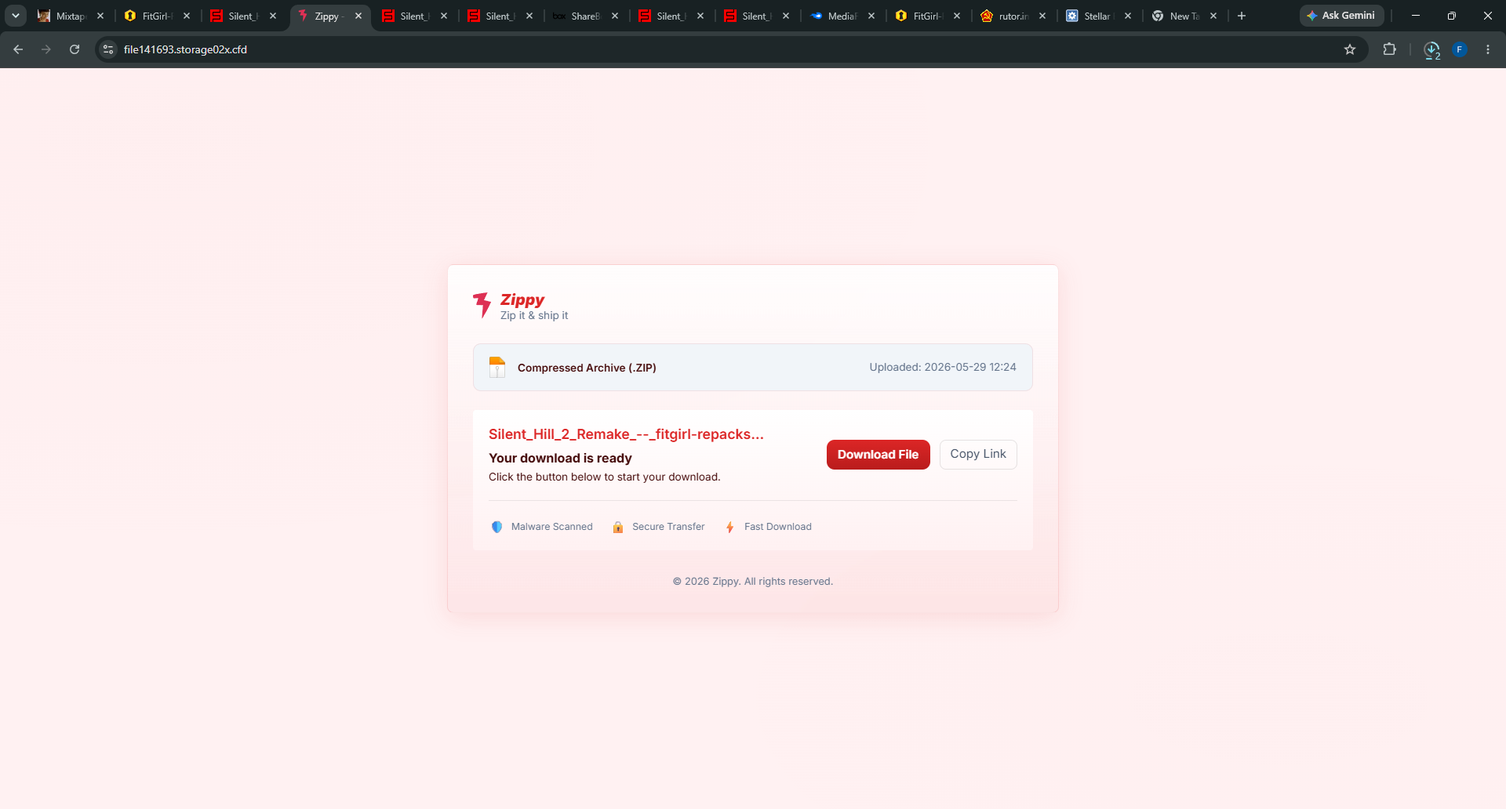fake_button: (816, 426, 938, 487)
